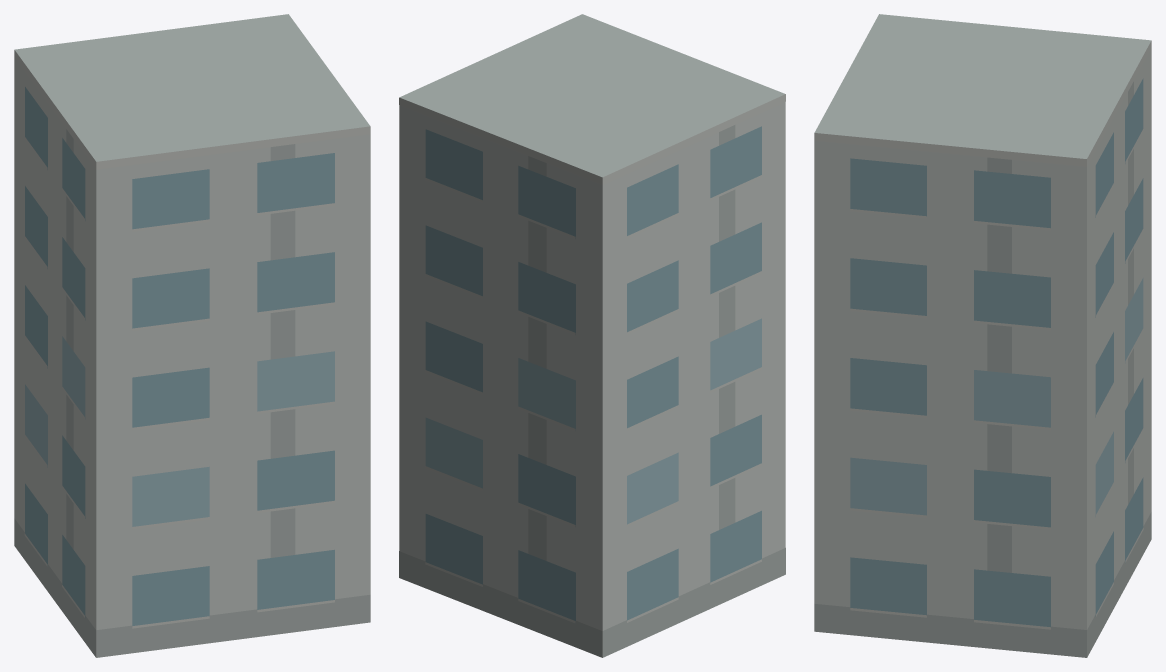
File: survey-upis-32981323.glb
3 views of the same model, side by side, from view 1: azimuth 30°, elevation 25°; view 2: azimuth 150°, elevation 25°; view 3: azimuth 270°, elevation 25° (orthographic). The views are drawn at different scales.
Parts seen in each view (by area): view 1: survey-upis-32981323.tmp; view 2: survey-upis-32981323.tmp; view 3: survey-upis-32981323.tmp.
Part boxes in pixels (bbox=[...]): survey-upis-32981323.tmp: bbox=[14, 14, 370, 657]; survey-upis-32981323.tmp: bbox=[399, 14, 785, 657]; survey-upis-32981323.tmp: bbox=[814, 14, 1151, 657].
Size of the model in its own units: 9.52 by 15.25 by 9.35.
